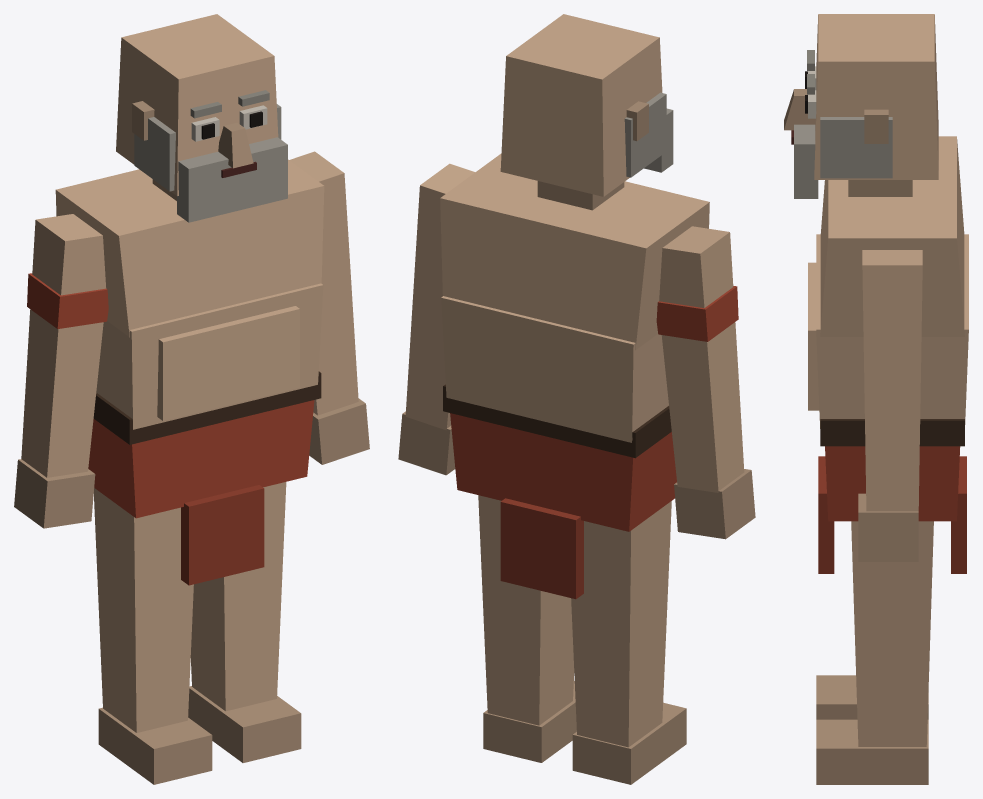
The model's file is fighter_A2.glb.
The picture shows the model from 3 angles, left to right: view 1: azimuth 30°, elevation 25°; view 2: azimuth 150°, elevation 25°; view 3: azimuth 270°, elevation 25°; orthographic projection.
Parts seen in each view (by area): view 1: torso, head, hips, leg_R, arm_R, leg_L, arm_L; view 2: torso, hips, head, leg_R, arm_R, leg_L, arm_L; view 3: torso, head, leg_L, arm_L, hips, leg_R.
Boxes of the visible parts, x1,y1,x2,y2 form: torso: (55,159,324,429); head: (116,14,287,222); hips: (88,371,321,585); leg_R: (93,488,212,784); arm_R: (14,214,108,528); leg_L: (188,482,301,762); arm_L: (289,151,369,464); torso: (440,153,709,442); hips: (443,384,676,599); head: (500,14,673,210); leg_R: (571,501,686,784); arm_R: (656,226,755,539); leg_L: (478,495,576,762); arm_L: (398,163,475,475); torso: (808,136,968,428); head: (784,14,938,198); leg_L: (816,521,933,784); arm_L: (858,250,922,561); hips: (818,419,966,573); leg_R: (816,675,928,719).
Size of the model in its own units: 0.9528 by 1.95 by 0.46.
